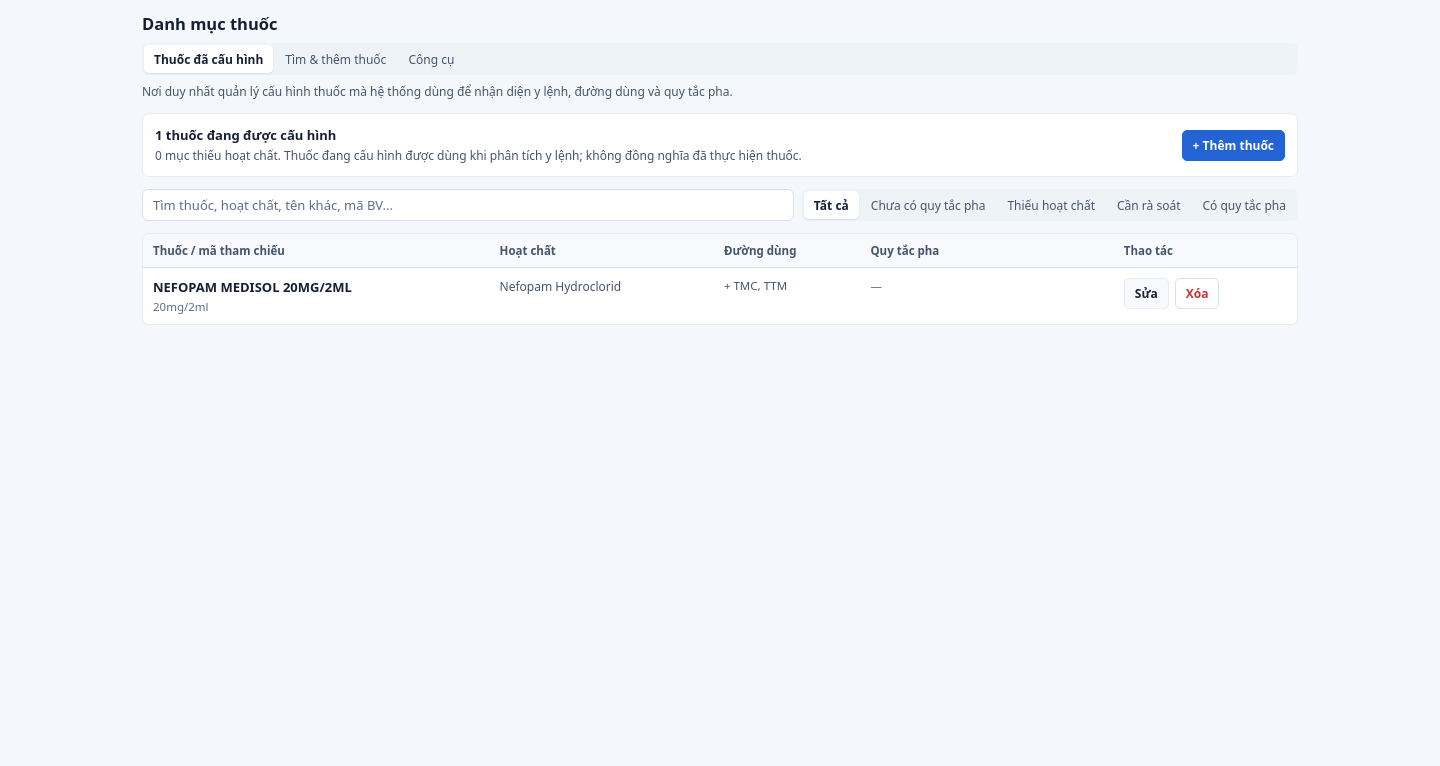
Test: Danh mục thuốc – luồng thống nhất › nguồn tham khảo chỉ xem, không tự lưu hoặc xóa thuốc cấu hình
Click the radio button labelled "Tìm & thêm thuốc" at (336, 59), box [275,45,396,73]
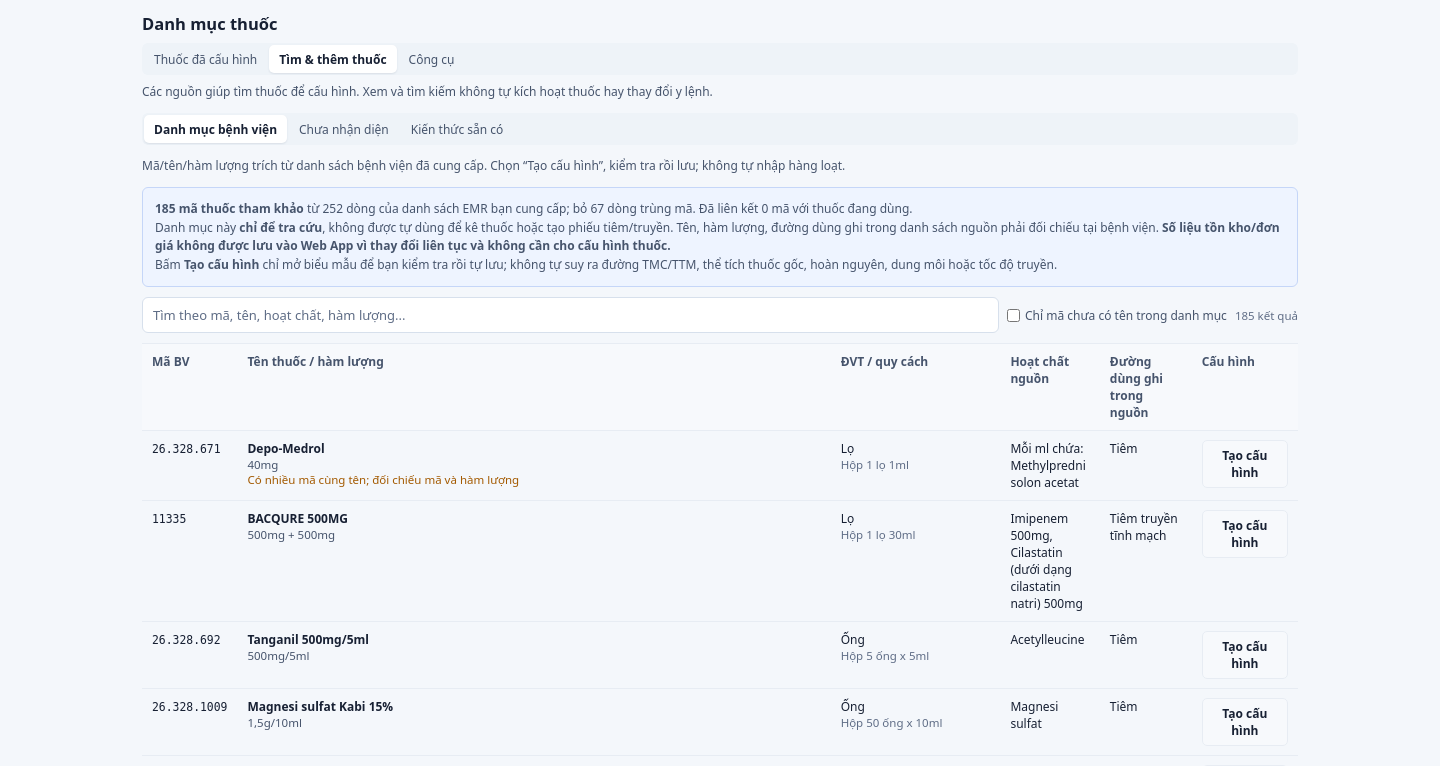
Now the text "185 mã thuốc tham khảo" is shown, box [155,200,304,217]
Now the radio button labelled "Chưa nhận diện" is shown
Click the radio button labelled "Chưa nhận diện" at (344, 129), box [289,115,399,143]
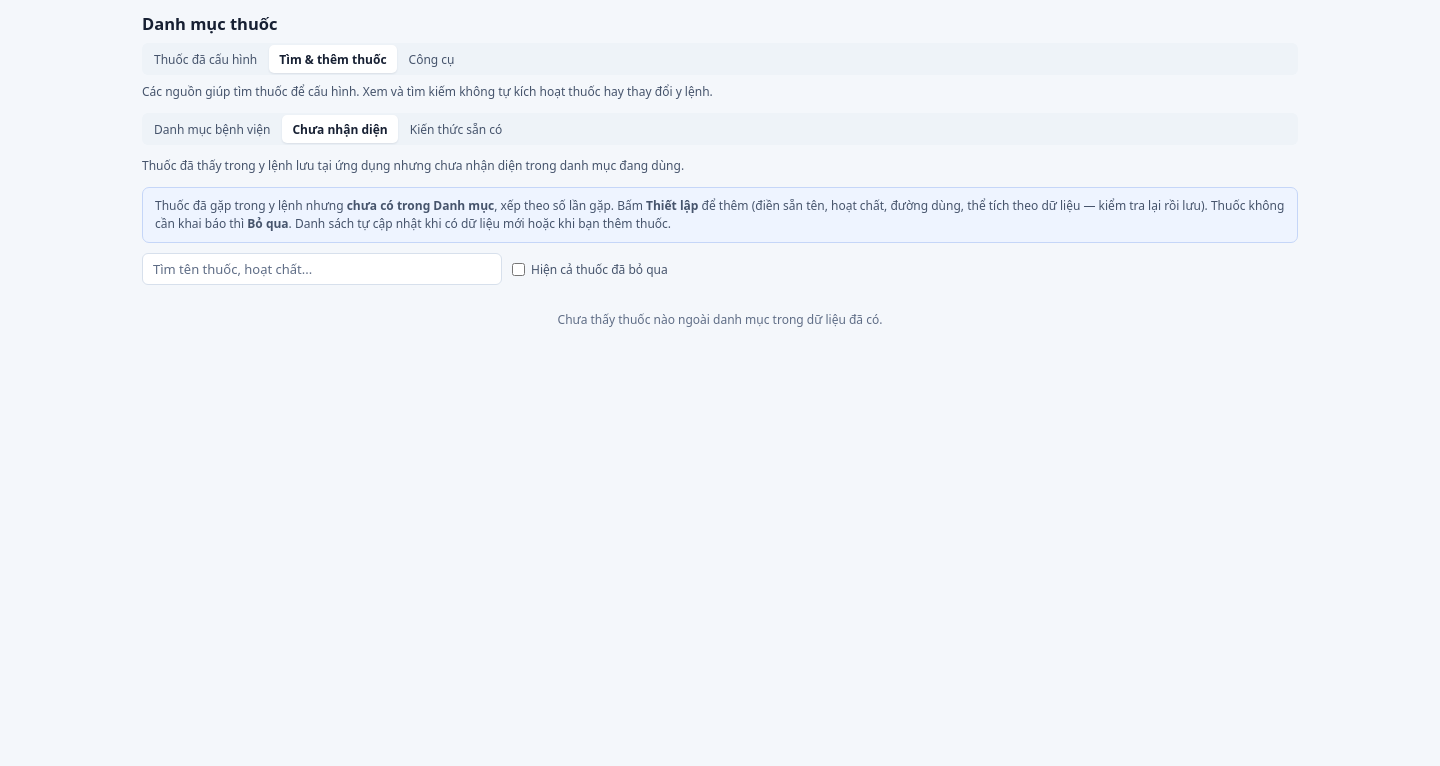
Now the radio button labelled "Kiến thức sẵn có" is shown
Click the radio button labelled "Kiến thức sẵn có" at (456, 129), box [400,115,512,143]
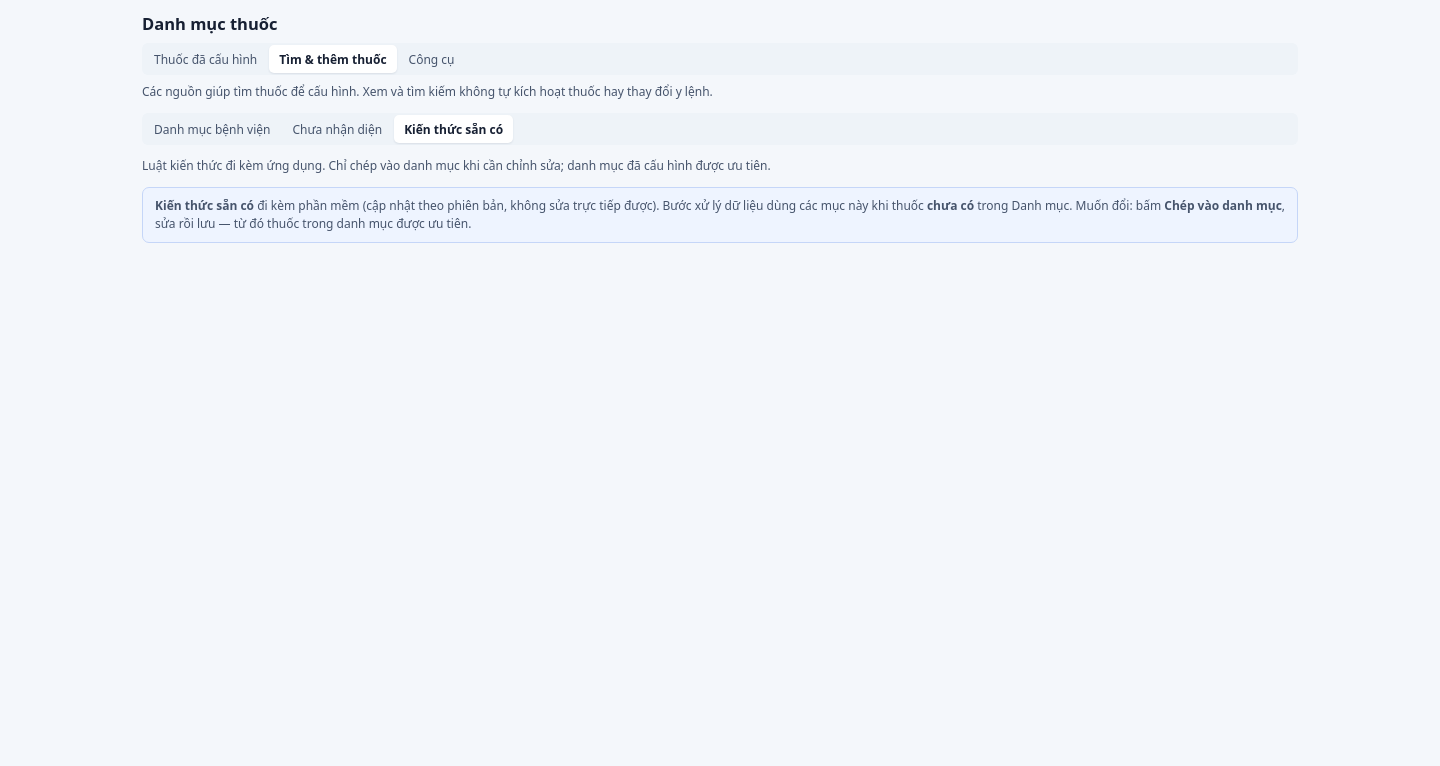
Now the radio button labelled "Danh mục bệnh viện" is shown
Click the radio button labelled "Danh mục bệnh viện" at (212, 129), box [144,115,280,143]
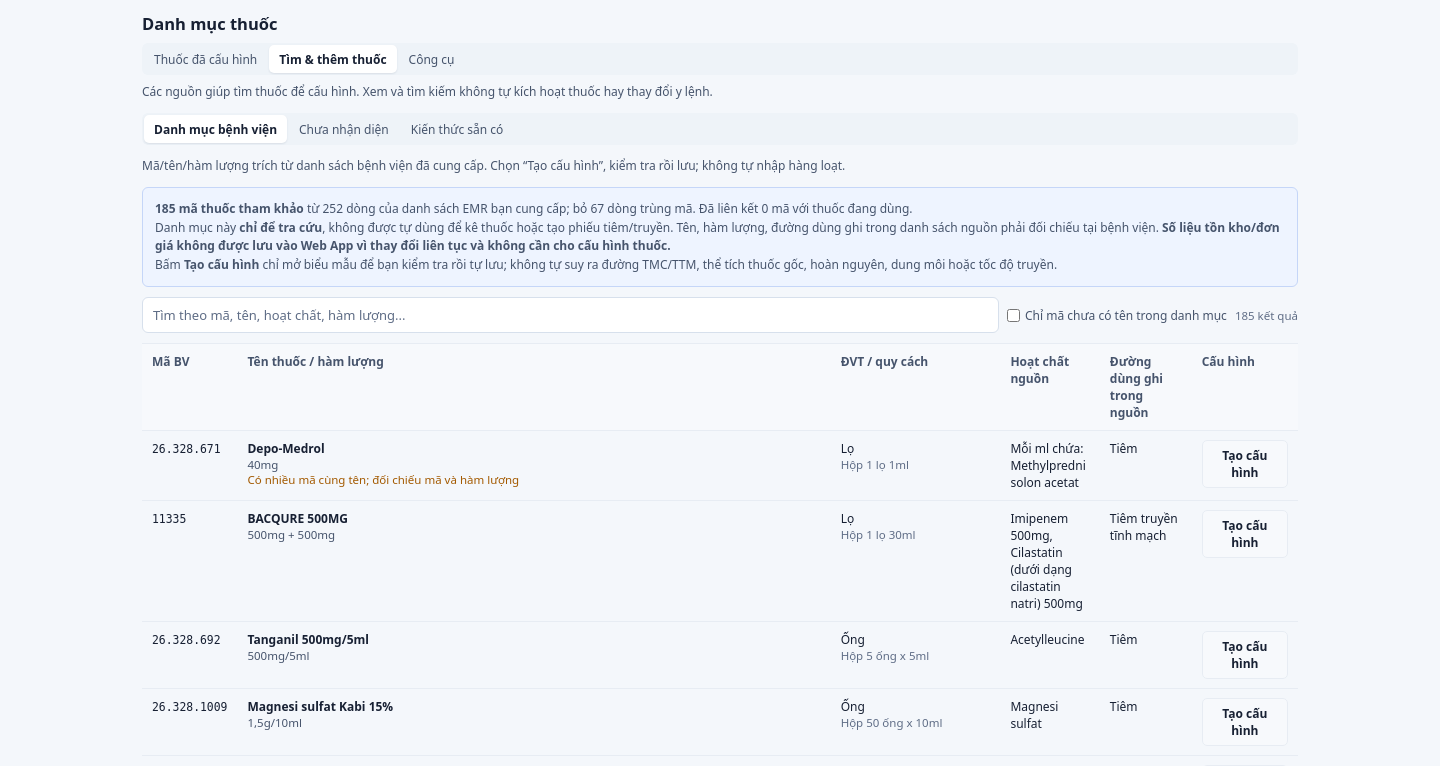
Now the text "185 mã thuốc tham khảo" is shown, box [155,200,304,217]
